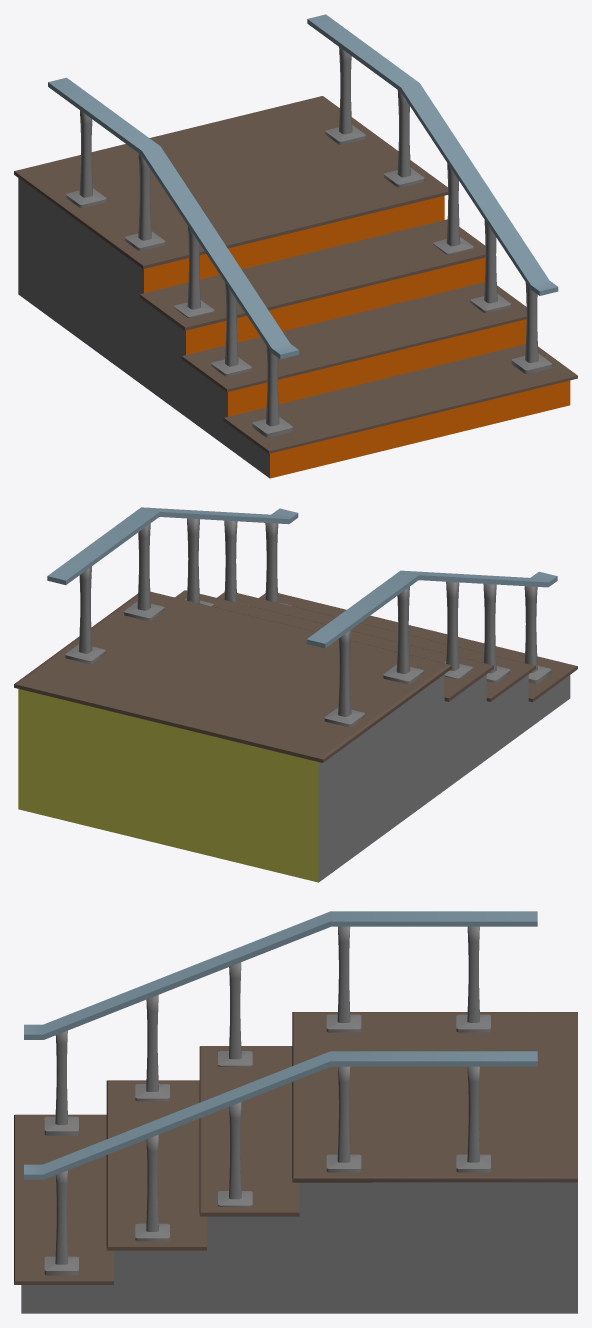
Rendered from Entrance Ladder.fbx.
The picture shows the model from 3 angles, top to bottom: view 1: azimuth 30°, elevation 25°; view 2: azimuth 150°, elevation 25°; view 3: azimuth 270°, elevation 25°; orthographic projection. The views are drawn at different scales.
Parts seen in each view (by area): view 1: Line001, Box004, Box003; view 2: Line001, Box003, Box004; view 3: Line001, Box004, Box003.
Boxes of the visible parts, <box> form: Line001: <box>14,96,577,478</box>; Box004: <box>307,14,558,374</box>; Box003: <box>48,77,298,437</box>; Line001: <box>14,590,577,882</box>; Box003: <box>306,570,557,727</box>; Box004: <box>47,507,298,663</box>; Line001: <box>14,1012,577,1313</box>; Box004: <box>24,1051,537,1275</box>; Box003: <box>24,911,537,1135</box>.
Bounding box in the file's own units: 85.03 × 58.54 × 122.
